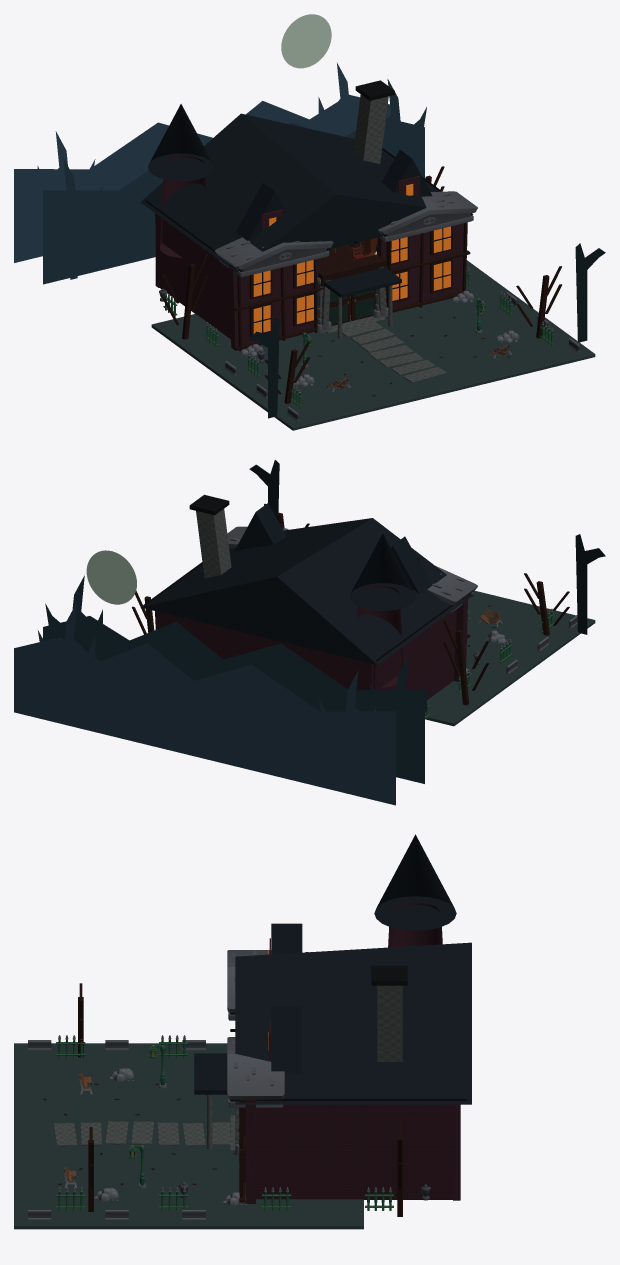
The model's file is manor-lobby.glb.
3 renders of one model, top to bottom at view 1: azimuth 30°, elevation 25°; view 2: azimuth 150°, elevation 25°; view 3: azimuth 270°, elevation 25°, orthographic. The views are drawn at different scales.
Visible parts, largest first — view 1: Courtyard, CrookedRoof, ManorDetail13, ManorDetail12, ManorDetail0, ManorDetail10, ManorDetail5, ManorDetail3, ManorSideWall-1, ManorDetail1, FacadeWing-1, FacadeWing1 (+5 smaller); view 2: ManorDetail12, CrookedRoof, ManorDetail13, Courtyard, ManorDetail5, BackWall, ManorSideWall-1, ManorDetail0, ManorDetail10, PaperMoon, ManorDetail15, ManorDetail3 (+4 smaller); view 3: Courtyard, CrookedRoof, ManorSideWall1, ManorDetail5, ManorDetail10, ManorDetail3, ManorDetail7, ManorDetail0, ManorDetail2, ManorDetail4, FacadeWing1, BackWall.
Boxes of the visible parts, x1,y1,x2,y2 form: Courtyard: [151, 260, 595, 430]; CrookedRoof: [140, 113, 473, 272]; ManorDetail13: [43, 79, 426, 284]; ManorDetail12: [14, 63, 390, 262]; ManorDetail0: [162, 166, 561, 403]; ManorDetail10: [159, 191, 580, 421]; ManorDetail5: [148, 104, 432, 297]; ManorDetail3: [321, 94, 446, 382]; ManorSideWall-1: [155, 213, 230, 339]; ManorDetail1: [253, 184, 450, 333]; FacadeWing-1: [229, 258, 319, 350]; FacadeWing1: [377, 222, 467, 307]; ManorDetail12: [14, 602, 395, 805]; CrookedRoof: [140, 518, 473, 665]; ManorDetail13: [43, 575, 427, 783]; Courtyard: [425, 590, 595, 726]; ManorDetail5: [234, 503, 431, 610]; BackWall: [155, 611, 373, 690]; ManorSideWall-1: [373, 609, 456, 699]; ManorDetail0: [132, 504, 569, 705]; ManorDetail10: [227, 526, 577, 674]; PaperMoon: [86, 550, 136, 604]; ManorDetail15: [249, 460, 605, 634]; ManorDetail3: [196, 509, 231, 578]; Courtyard: [14, 1043, 363, 1229]; CrookedRoof: [235, 942, 471, 1104]; ManorSideWall1: [256, 1104, 456, 1199]; ManorDetail5: [194, 834, 456, 1094]; ManorDetail10: [28, 950, 430, 1219]; ManorDetail3: [53, 985, 402, 1151]; ManorDetail7: [56, 1035, 393, 1210]; ManorDetail0: [43, 952, 402, 1216]; ManorDetail2: [230, 965, 466, 1162]; ManorDetail4: [269, 902, 442, 1059]; FacadeWing1: [245, 1099, 255, 1203]; BackWall: [453, 1104, 460, 1200].
Size of the model in its own units: 106 by 52.1 by 115.
Materials: 109 (109 with a texture image).
